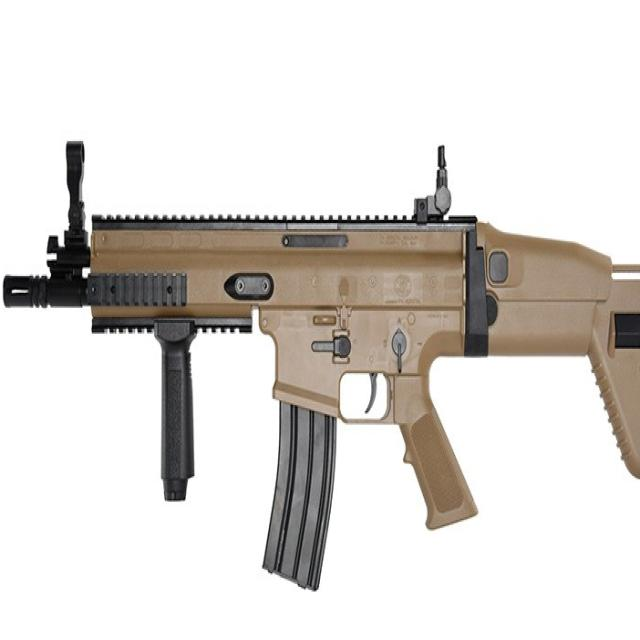Weapon: (4, 147, 640, 588)
